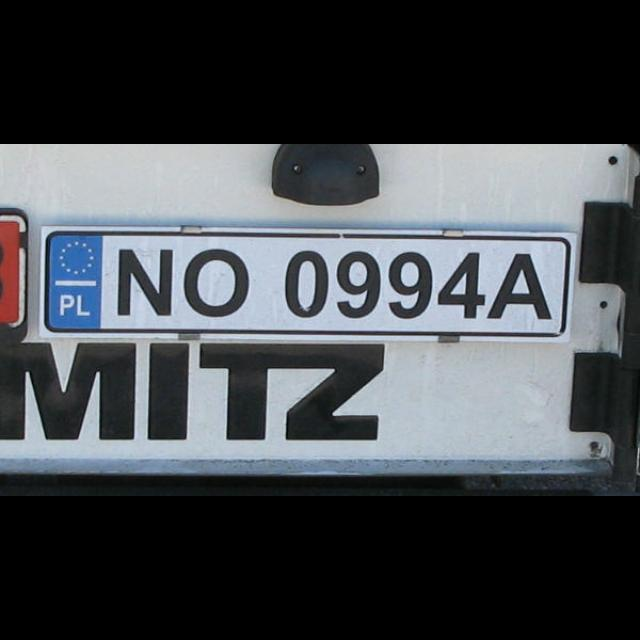license-plates: (42, 228, 576, 340)
